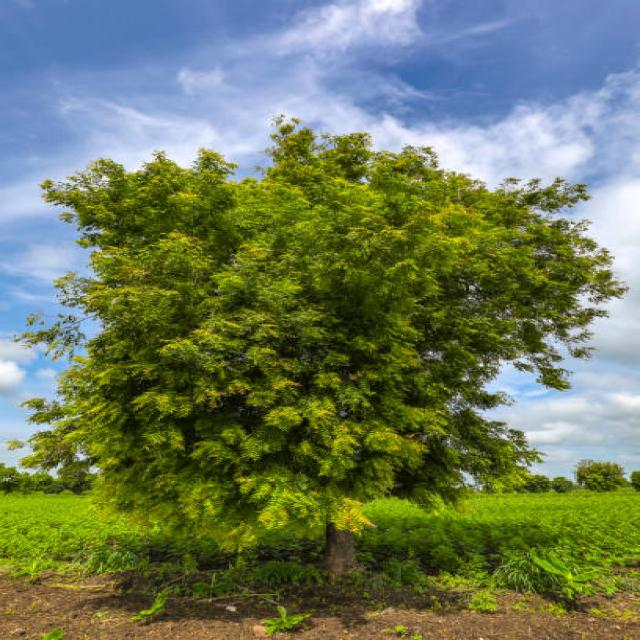Neem-Tree: (162, 200, 455, 478)
